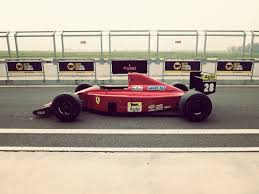FormulaOneCar: (31, 67, 218, 128)
